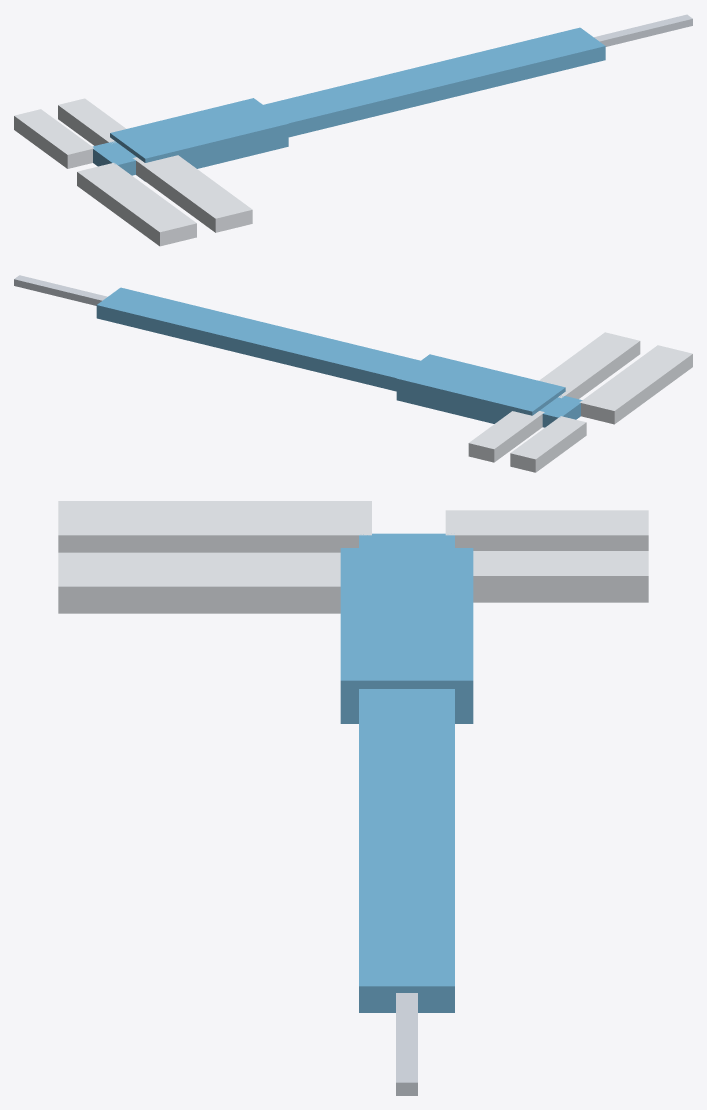
Rendered from paquimetro.glb.
3 views of the same model, one above another, from view 1: azimuth 30°, elevation 25°; view 2: azimuth 150°, elevation 25°; view 3: azimuth 270°, elevation 25° (orthographic). The views are drawn at different scales.
Visible parts, largest first — view 1: nonio-vernier, bicos-externos, orelhas-internas, haste-profundidade; view 2: nonio-vernier, bicos-externos, orelhas-internas, haste-profundidade; view 3: nonio-vernier, bicos-externos, orelhas-internas, haste-profundidade.
Part boxes in pixels (box(x1,y1,x2,y2)): nonio-vernier: box(92, 27, 605, 181); bicos-externos: box(77, 155, 252, 246); orelhas-internas: box(14, 98, 126, 168); haste-profundidade: box(594, 14, 692, 46); nonio-vernier: box(96, 287, 582, 427); bicos-externos: box(539, 332, 692, 424); orelhas-internas: box(468, 411, 586, 472); haste-profundidade: box(14, 275, 107, 305); nonio-vernier: box(340, 533, 473, 1012); bicos-externos: box(58, 501, 371, 613); orelhas-internas: box(445, 510, 648, 602); haste-profundidade: box(396, 993, 417, 1095).
Size of the model in its own units: 3.68 by 0.13 by 1.6.
